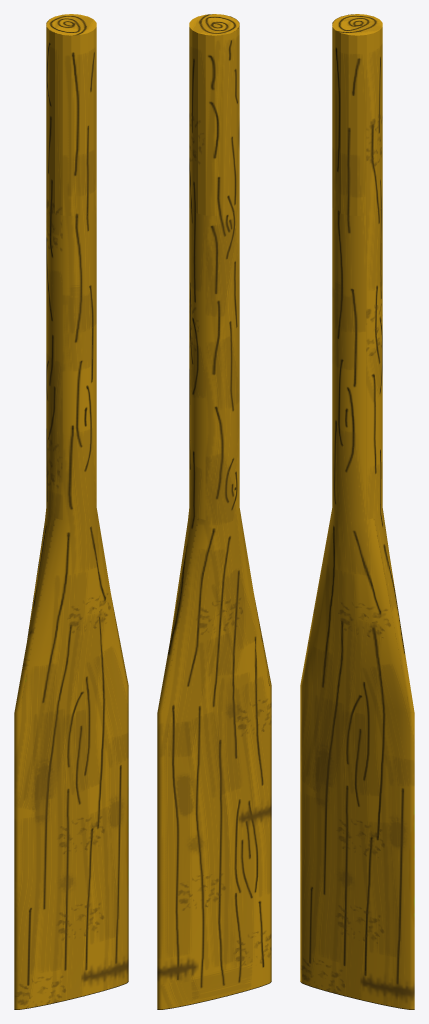
File: boat_PaddleModel.fbx
3 views of the same model, side by side, from view 1: azimuth 30°, elevation 25°; view 2: azimuth 210°, elevation 25°; view 3: azimuth 330°, elevation 25° (orthographic).
Parts seen in each view (by area): view 1: Cylinder001; view 2: Cylinder001; view 3: Cylinder001.
Boxes of the visible parts, x1,y1,x2,y2 form: Cylinder001: (14,14,128,1009); Cylinder001: (157,14,271,1009); Cylinder001: (300,14,414,1009).
Size of the model in its own units: 37.63 by 306 by 14.43.
Materials: 1 (1 with a texture image).
